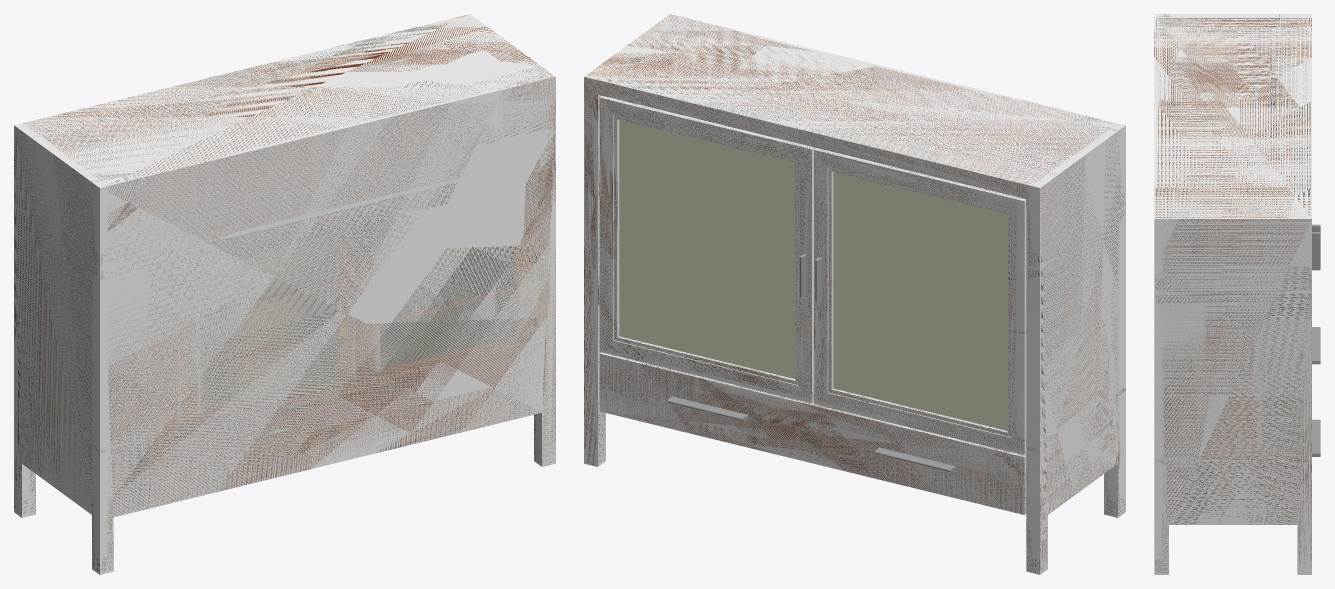
The picture shows the model from 3 angles, left to right: view 1: azimuth 30°, elevation 25°; view 2: azimuth 150°, elevation 25°; view 3: azimuth 270°, elevation 25°; orthographic projection. The views are drawn at different scales.
Parts seen in each view (by area): view 1: mesh1_mesh1-geometry; view 2: mesh1_mesh1-geometry, mesh8_mesh8-geometry, mesh10_mesh10-geometry, mesh13_mesh13-geometry, mesh14_mesh14-geometry; view 3: mesh1_mesh1-geometry, mesh12_mesh12-geometry, mesh7_mesh7-geometry, mesh11_mesh11-geometry.
Part boxes in pixels (x1,y1,x2,y2): mesh1_mesh1-geometry: (14, 14, 555, 574); mesh1_mesh1-geometry: (584, 14, 1125, 574); mesh8_mesh8-geometry: (619, 120, 795, 378); mesh10_mesh10-geometry: (833, 172, 1007, 430); mesh13_mesh13-geometry: (599, 95, 815, 403); mesh14_mesh14-geometry: (814, 148, 1026, 455); mesh1_mesh1-geometry: (1154, 14, 1311, 574); mesh12_mesh12-geometry: (1312, 232, 1320, 270); mesh7_mesh7-geometry: (1312, 419, 1320, 456); mesh11_mesh11-geometry: (1312, 327, 1320, 364).
Size of the model in its own units: 0.7505 by 0.6084 by 0.258.
